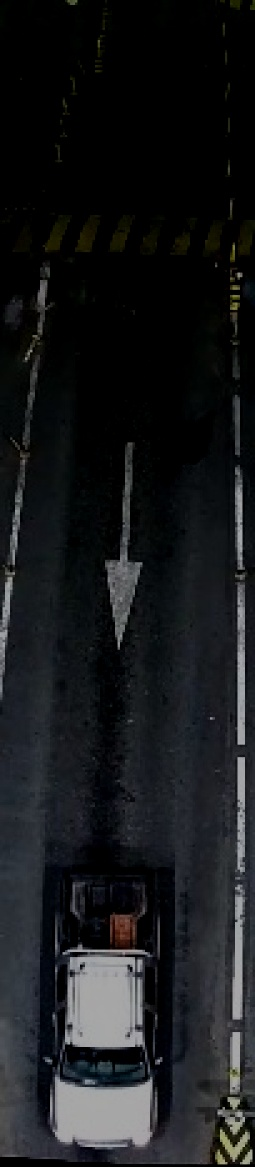car: (36, 850, 171, 1159)
